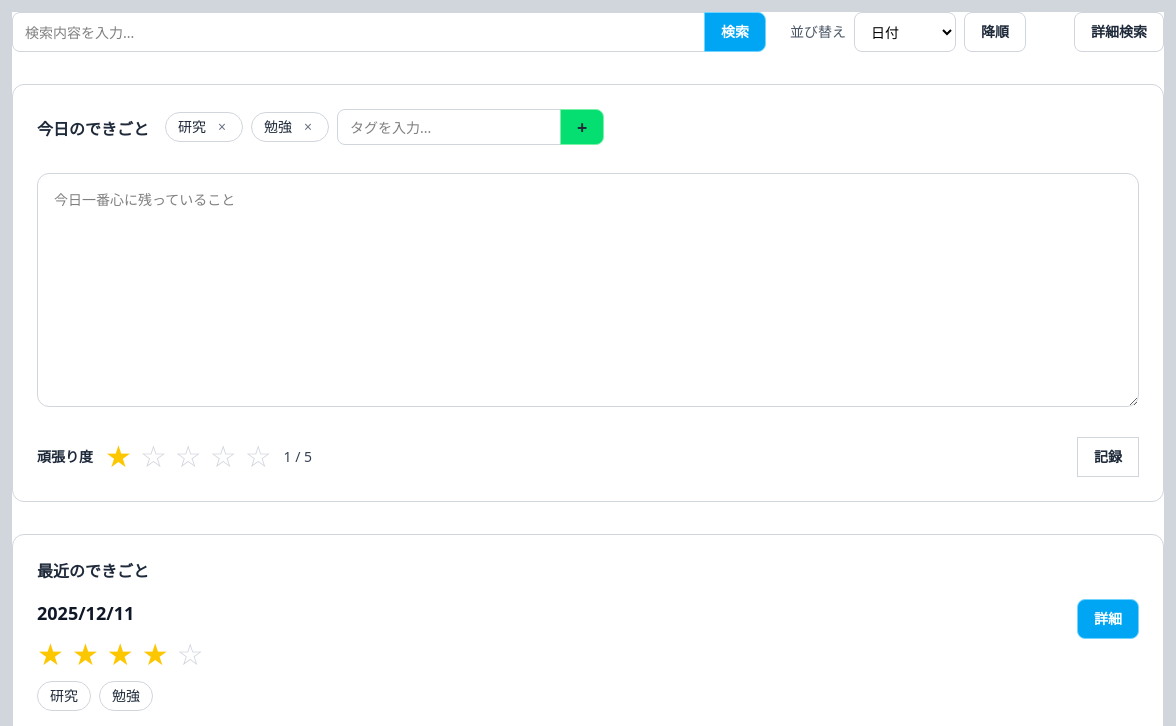
Home › 頑張り度で星を選ぶと正しく反映される
Click the radio button named "3 / 5": (188, 457) x1=175 y1=441 x2=202 y2=473
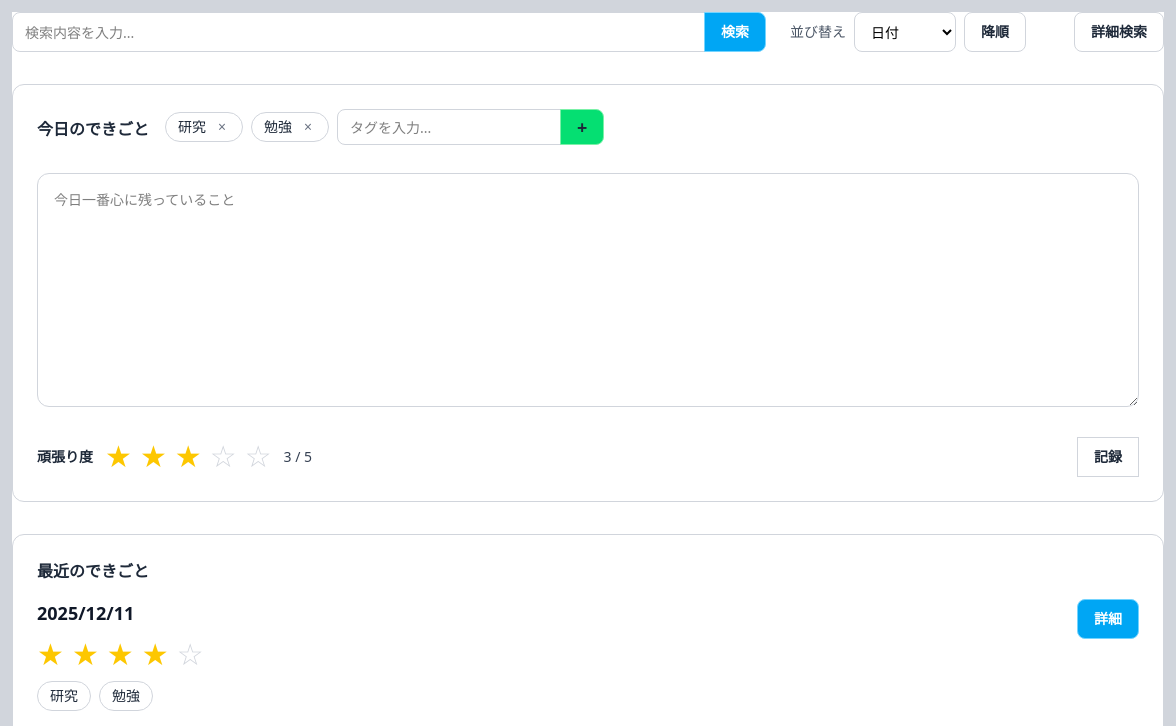
Check: the radio button named "3 / 5" is checked, box x1=175 y1=441 x2=202 y2=473
Check: the text named "頑張り度の数字表記" reads "3 / 5", box x1=284 y1=447 x2=312 y2=466
